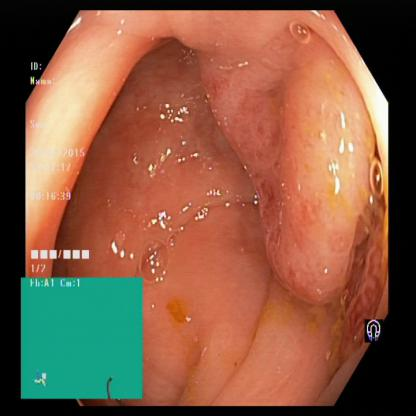Labels: (27, 57, 105, 276), (20, 278, 142, 400), (363, 316, 388, 346)
Polyps: (268, 31, 363, 310)
